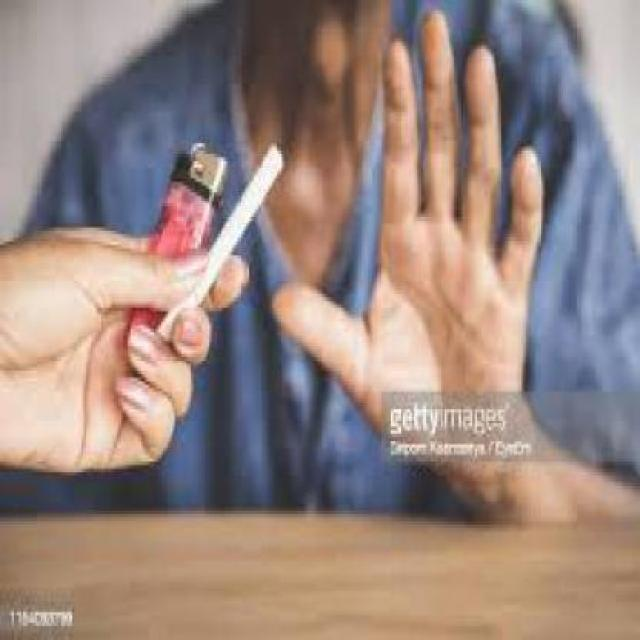cigarette: (151, 138, 291, 354)
